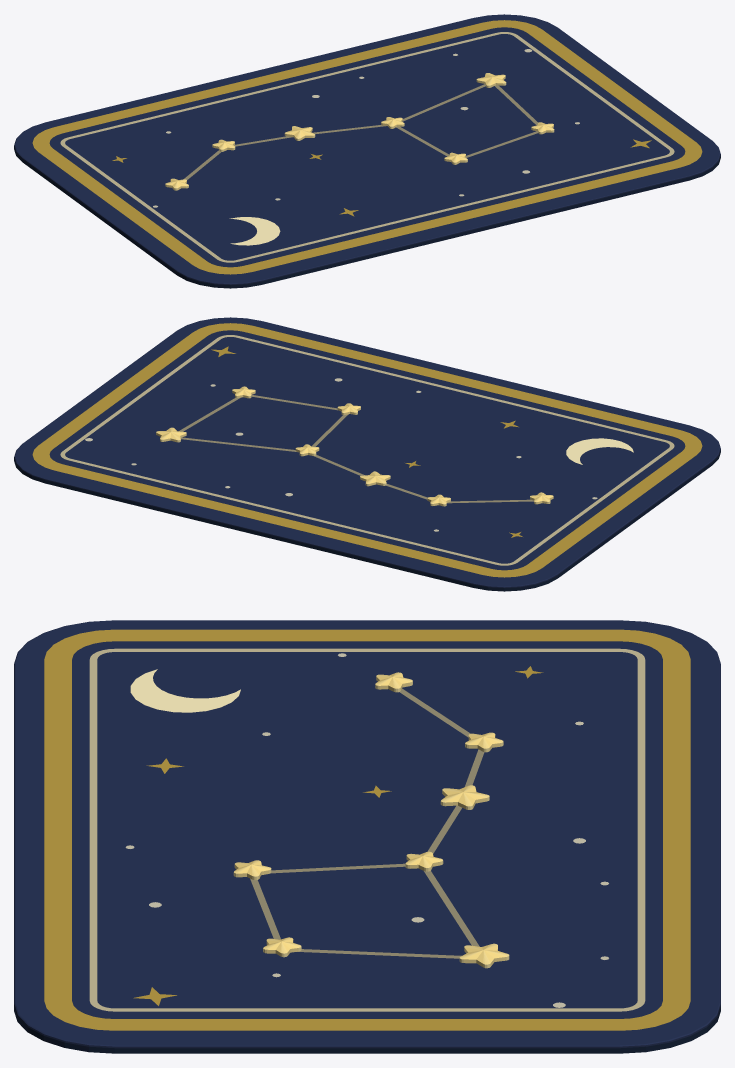
The model's file is star_rug.glb.
3 views of the same model, one above another, from view 1: azimuth 30°, elevation 25°; view 2: azimuth 150°, elevation 25°; view 3: azimuth 270°, elevation 25° (orthographic). The views are drawn at different scales.
Size of the model in its own units: 2 by 0.04 by 1.4.
